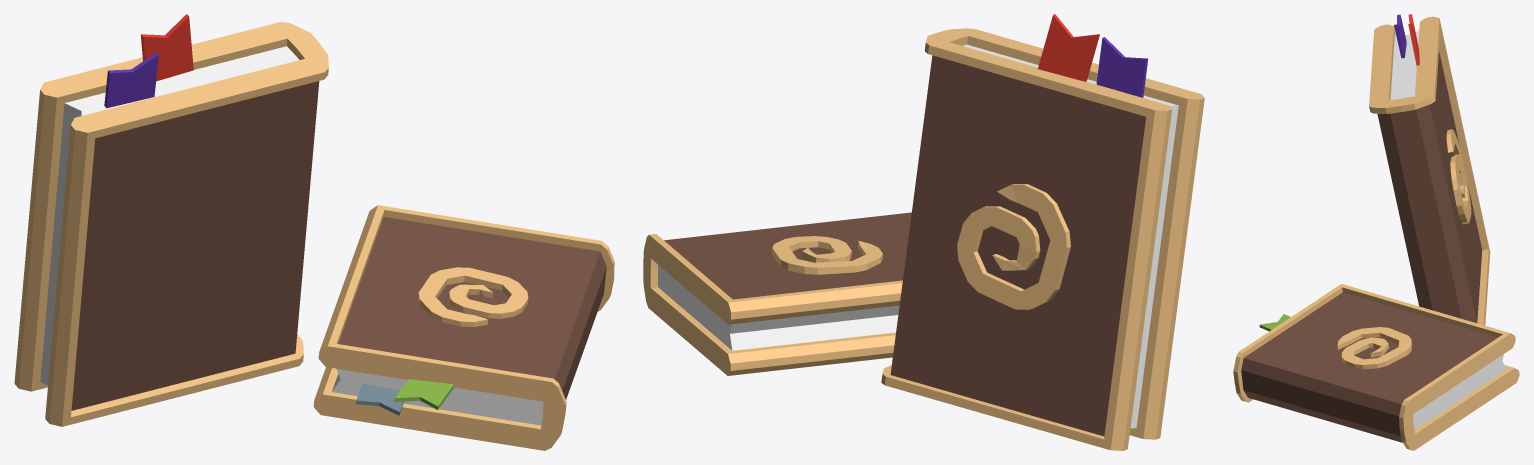
The model's file is Books.glb.
The picture shows the model from 3 angles, left to right: view 1: azimuth 30°, elevation 25°; view 2: azimuth 150°, elevation 25°; view 3: azimuth 270°, elevation 25°; orthographic projection. The views are drawn at different scales.
Parts seen in each view (by area): view 1: group2079906396, group267465235; view 2: group2079906396, group267465235; view 3: group267465235, group2079906396.
Part boxes in pixels (box(x1,y1,x2,y2)): group2079906396: box(14, 14, 328, 426); group267465235: box(313, 205, 614, 450); group2079906396: box(881, 14, 1204, 450); group267465235: box(643, 212, 911, 375); group267465235: box(1233, 284, 1519, 450); group2079906396: box(1369, 14, 1490, 325).
Bounding box in the file's own units: 0.6449 × 0.4553 × 0.4024.
